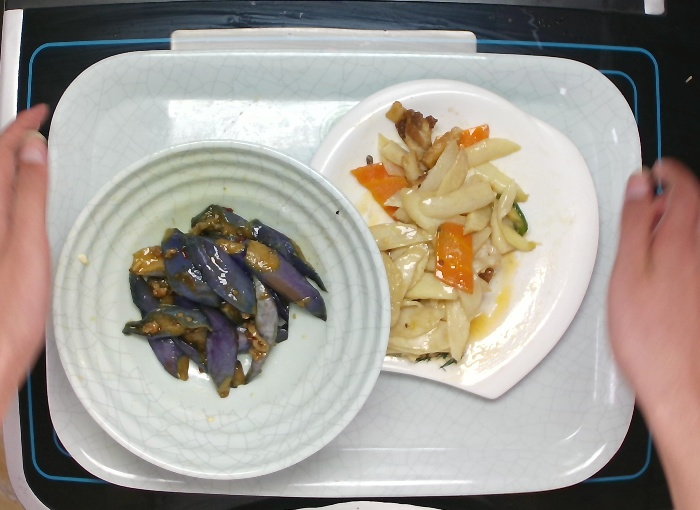JYsf-Da_Tang_Wan: (49, 139, 392, 482)
JYsf-Mian_Pan: (295, 77, 605, 402)
